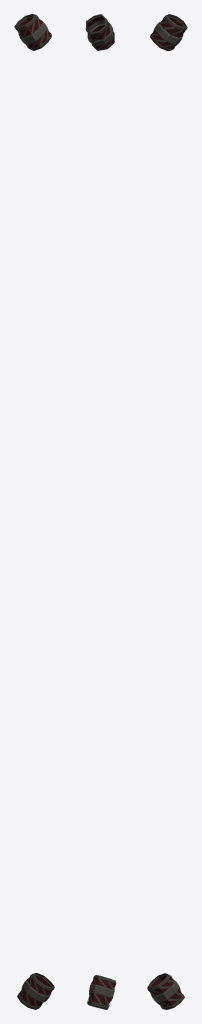
Rendered from smallBowTacticalTip.glb.
3 renders of one model, left to right at view 1: azimuth 90°, elevation 25°; view 2: azimuth 150°, elevation 25°; view 3: azimuth 270°, elevation 25°, orthographic.
Visible parts, largest first — view 1: smallBowTacticalTip; view 2: smallBowTacticalTip; view 3: smallBowTacticalTip.
Boxes of the visible parts, bbox=[...] form: smallBowTacticalTip: bbox=[14, 14, 54, 1009]; smallBowTacticalTip: bbox=[85, 14, 116, 1009]; smallBowTacticalTip: bbox=[147, 14, 187, 1009].
Size of the model in its own units: 0.0233 by 0.927 by 0.0342.
